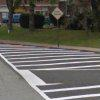Crosswalk: (7, 38, 100, 100)
